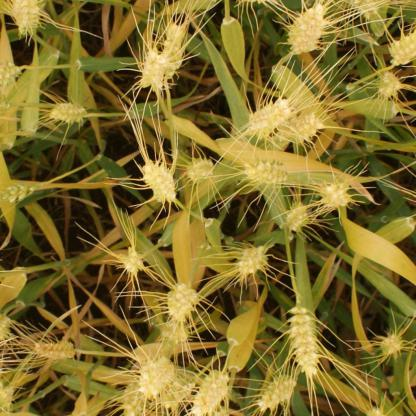whd: (284, 303, 322, 378), (284, 2, 327, 55), (186, 366, 230, 416), (242, 95, 293, 137), (138, 156, 178, 205), (253, 371, 299, 412), (135, 354, 175, 399), (158, 21, 186, 80), (284, 108, 326, 146), (240, 159, 291, 190), (165, 280, 201, 323), (136, 47, 168, 91), (230, 244, 270, 276), (9, 0, 42, 37), (316, 179, 354, 211), (118, 376, 147, 416), (31, 337, 77, 362), (48, 100, 90, 126), (387, 28, 416, 65), (0, 180, 37, 208), (159, 378, 192, 408), (185, 155, 216, 185), (284, 199, 310, 233), (376, 330, 406, 359), (118, 246, 146, 277), (375, 70, 403, 100), (0, 59, 23, 87), (346, 0, 382, 17), (158, 322, 186, 342), (0, 384, 15, 411), (0, 314, 12, 339), (362, 403, 386, 415)
